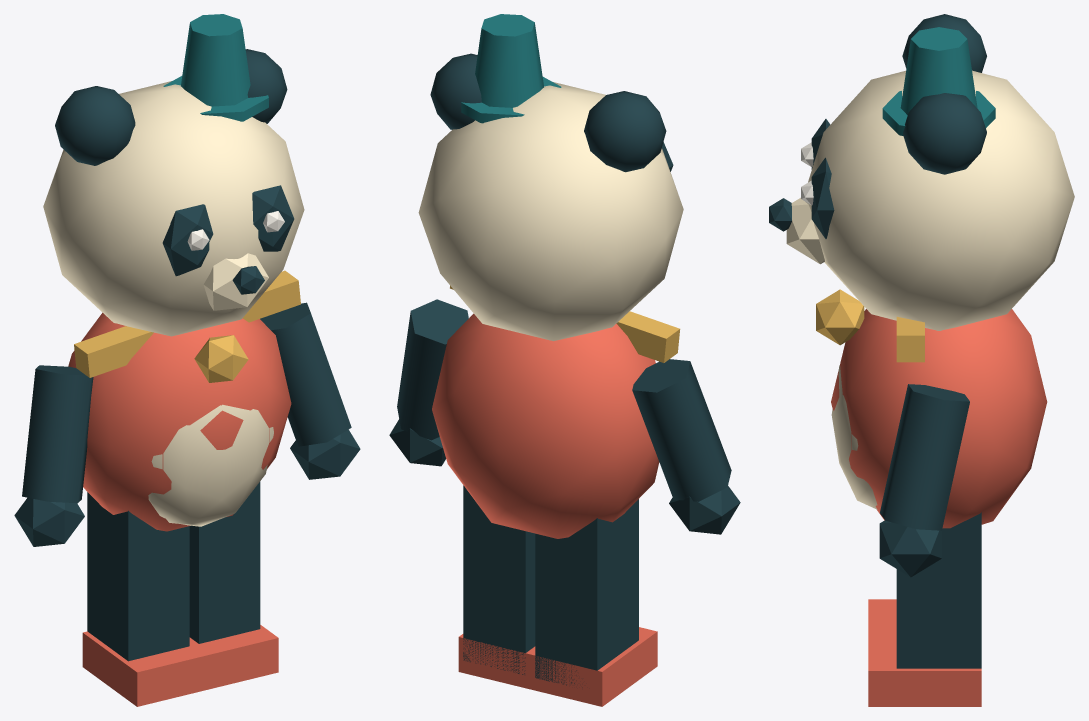
Rendered from staff_entertainer.glb.
3 views of the same model, side by side, from view 1: azimuth 30°, elevation 25°; view 2: azimuth 150°, elevation 25°; view 3: azimuth 270°, elevation 25° (orthographic). The views are drawn at different scales.
Parts seen in each view (by area): view 1: staff_entertainer; view 2: staff_entertainer; view 3: staff_entertainer.
Part boxes in pixels (box(x1,y1,x2,y2)): staff_entertainer: box(14, 14, 360, 706); staff_entertainer: box(389, 14, 740, 706); staff_entertainer: box(769, 14, 1074, 706).
Bounding box in the file's own units: 1.39 × 2.55 × 1.08.
